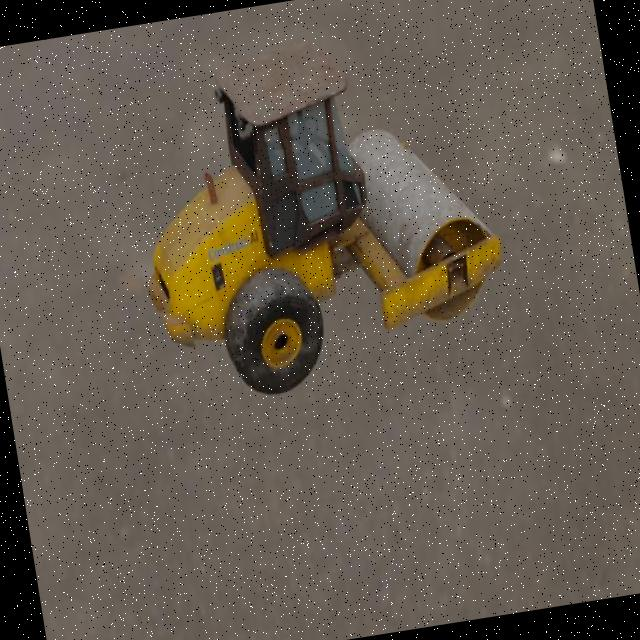Roller: (111, 13, 518, 413)
